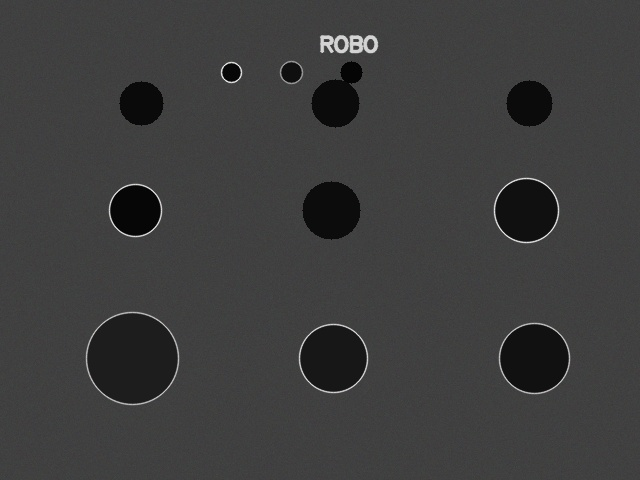hole: (86, 312, 178, 404), (499, 323, 569, 393), (299, 324, 367, 392), (494, 178, 558, 242), (302, 181, 360, 239), (109, 184, 161, 236), (311, 79, 359, 127), (506, 80, 552, 126), (119, 81, 163, 125), (280, 61, 302, 83), (340, 61, 362, 83), (221, 62, 241, 82)
